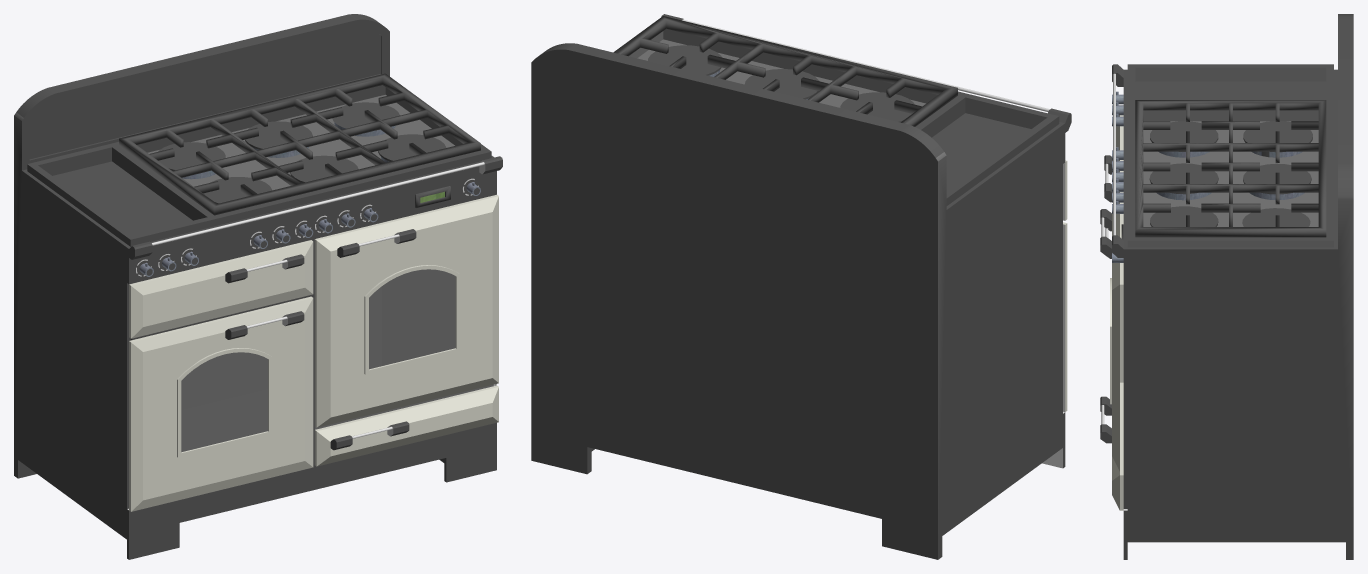
Rendered from oven.fbx.
3 renders of one model, left to right at view 1: azimuth 30°, elevation 25°; view 2: azimuth 150°, elevation 25°; view 3: azimuth 270°, elevation 25°, orthographic. The views are drawn at different scales.
Parts seen in each view (by area): view 1: oven:polySurface1; view 2: oven:polySurface1; view 3: oven:polySurface1.
Boxes of the visible parts, box(x1,y1,x2,y2) form: oven:polySurface1: box(14, 14, 502, 559); oven:polySurface1: box(531, 14, 1071, 559); oven:polySurface1: box(1100, 14, 1353, 559).
Bounding box in the file's own units: 109 × 108 × 65.
9 materials, 2 textured.
